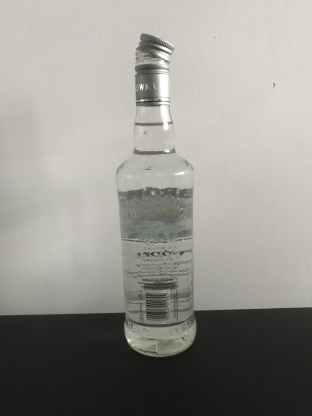nakretka: (133, 31, 175, 106)
